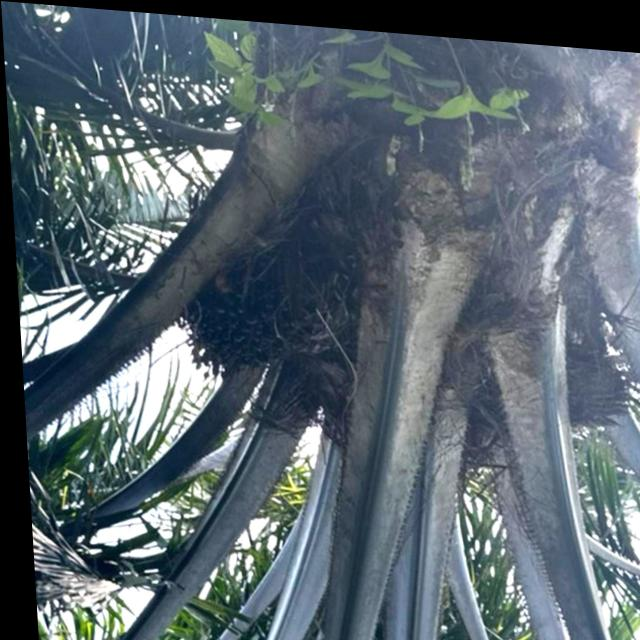unripe: (163, 230, 309, 377)
